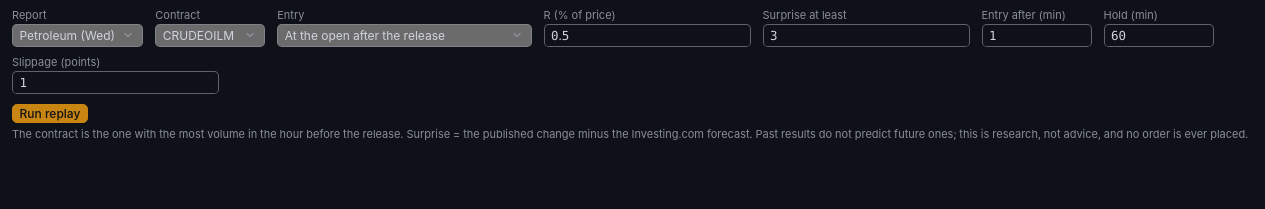
Scenario: says what the server said when it refuses
The width and height of the screenshot is (1265, 209).
Step 1. Click the button "Run replay" → (50, 113), box [12, 104, 88, 123]
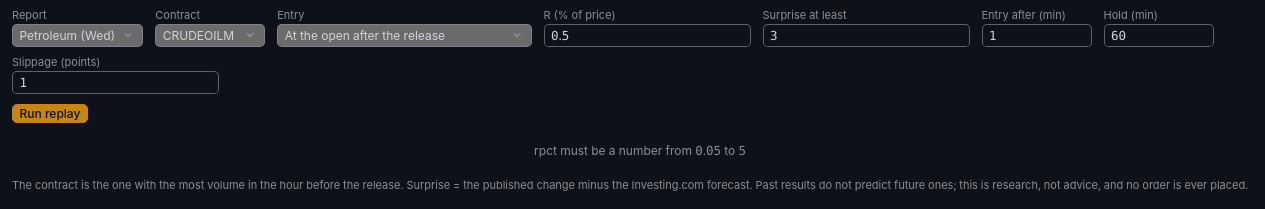
Check: the text "rpct must be a number from 0.05 to 5" is shown, box [534, 143, 746, 158]
